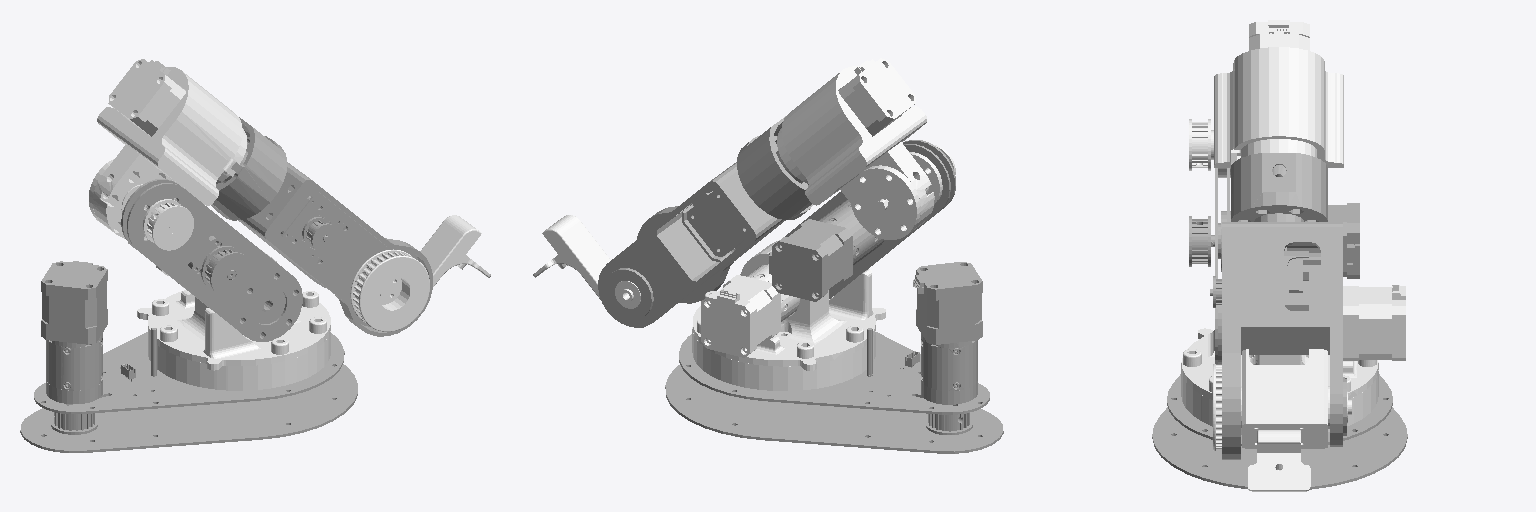
The robot description file, URDF, robot "myArm3":
<?xml version="1.0" encoding="utf-8"?>
<!-- This URDF was automatically created by SolidWorks to URDF Exporter! Originally created by [author] ([email redacted]) 
     Commit Version: 1.6.0-4-g7f85cfe  Build Version: 1.6.7995.38578
     For more information, please see http://wiki.ros.org/sw_urdf_exporter -->
<robot
  name="myArm3">
  <link
    name="base_link">
    <inertial>
      <origin
        xyz="-0.095318 -4.5256E-06 0.021176"
        rpy="0 0 0" />
      <mass
        value="0.27554" />
      <inertia
        ixx="0.00022099"
        ixy="-7.044E-08"
        ixz="7.4625E-11"
        iyy="0.00051826"
        iyz="-4.182E-10"
        izz="0.00069171" />
    </inertial>
    <visual>
      <origin
        xyz="0 0 0"
        rpy="0 0 0" />
      <geometry>
        <mesh
          filename="package://myArm3/meshes/base_link.STL" />
      </geometry>
      <material
        name="">
        <color
          rgba="0.75294 0.75294 0.75294 1" />
      </material>
    </visual>
    <collision>
      <origin
        xyz="0 0 0"
        rpy="0 0 0" />
      <geometry>
        <mesh
          filename="package://myArm3/meshes/base_link.STL" />
      </geometry>
    </collision>
  </link>
  <link
    name="J1_link">
    <inertial>
      <origin
        xyz="0.000446439488017805 0.00967765688099316 0.00170160479426845"
        rpy="0 0 0" />
      <mass
        value="0.629677145348551" />
      <inertia
        ixx="0.000496177686909678"
        ixy="-1.14257748342475E-05"
        ixz="5.33491963218859E-07"
        iyy="0.000501071492601735"
        iyz="2.62329300021668E-06"
        izz="0.000843373347667883" />
    </inertial>
    <visual>
      <origin
        xyz="0 0 0"
        rpy="0 0 0" />
      <geometry>
        <mesh
          filename="package://myArm3/meshes/J1_link.STL" />
      </geometry>
      <material
        name="">
        <color
          rgba="1 1 1 1" />
      </material>
    </visual>
    <collision>
      <origin
        xyz="0 0 0"
        rpy="0 0 0" />
      <geometry>
        <mesh
          filename="package://myArm3/meshes/J1_link.STL" />
      </geometry>
    </collision>
  </link>
  <joint
    name="J1"
    type="revolute">
    <origin
      xyz="0 0 0.029"
      rpy="0 0 0" />
    <parent
      link="base_link" />
    <child
      link="J1_link" />
    <axis
      xyz="0 0 1" />
    <limit
      lower="-0.66323"
      upper="0.66323"
      effort="0"
      velocity="1.5708" />
  </joint>
  <link
    name="J2_link">
    <inertial>
      <origin
        xyz="-0.052758 0.03787 3.6385E-05"
        rpy="0 0 0" />
      <mass
        value="0.20789" />
      <inertia
        ixx="5.461E-05"
        ixy="-4.0338E-10"
        ixz="-7.4046E-08"
        iyy="0.00012239"
        iyz="-2.0613E-08"
        izz="0.00011622" />
    </inertial>
    <visual>
      <origin
        xyz="0 0 0"
        rpy="0 0 0" />
      <geometry>
        <mesh
          filename="package://myArm3/meshes/J2_link.STL" />
      </geometry>
      <material
        name="">
        <color
          rgba="0.75294 0.75294 0.75294 1" />
      </material>
    </visual>
    <collision>
      <origin
        xyz="0 0 0"
        rpy="0 0 0" />
      <geometry>
        <mesh
          filename="package://myArm3/meshes/J2_link.STL" />
      </geometry>
    </collision>
  </link>
  <joint
    name="J2"
    type="revolute">
    <origin
      xyz="0 -0.0444 0.03"
      rpy="0 0.7854 0" />
    <parent
      link="J1_link" />
    <child
      link="J2_link" />
    <axis
      xyz="0 1 0" />
    <limit
      lower="0"
      upper="2.0944"
      effort="0"
      velocity="1.5708" />
  </joint>
  <link
    name="J3_link">
    <inertial>
      <origin
        xyz="0.00416465612326519 0.0110235943537189 0.0452994213674684"
        rpy="0 0 0" />
      <mass
        value="0.421769177344399" />
      <inertia
        ixx="0.000305332301594355"
        ixy="3.39977738991337E-07"
        ixz="7.90545810495613E-06"
        iyy="0.000299340292169898"
        iyz="2.1423276655419E-06"
        izz="0.000237436999303539" />
    </inertial>
    <visual>
      <origin
        xyz="0 0 0"
        rpy="0 0 0" />
      <geometry>
        <mesh
          filename="package://myArm3/meshes/J3_link.STL" />
      </geometry>
      <material
        name="">
        <color
          rgba="1 1 1 1" />
      </material>
    </visual>
    <collision>
      <origin
        xyz="0 0 0"
        rpy="0 0 0" />
      <geometry>
        <mesh
          filename="package://myArm3/meshes/J3_link.STL" />
      </geometry>
    </collision>
  </link>
  <joint
    name="J3"
    type="revolute">
    <origin
      xyz="-0.13 0.0519 0"
      rpy="0 0 -3.1416" />
    <parent
      link="J2_link" />
    <child
      link="J3_link" />
    <axis
      xyz="0 1 0" />
    <limit
      lower="0"
      upper="3.14"
      effort="0"
      velocity="1.5708" />
  </joint>
  <link
    name="J4_link">
    <inertial>
      <origin
        xyz="-0.0800991890853728 0.000661925783839005 -0.000295771091893091"
        rpy="0 0 0" />
      <mass
        value="0.33368898081639" />
      <inertia
        ixx="0.000253721042978855"
        ixy="-5.79470547305709E-05"
        ixz="-4.97091341292703E-07"
        iyy="0.000726825612118539"
        iyz="-1.46034238649972E-06"
        izz="0.000790498214103108" />
    </inertial>
    <visual>
      <origin
        xyz="0 0 0"
        rpy="0 0 0" />
      <geometry>
        <mesh
          filename="package://myArm3/meshes/J4_link.STL" />
      </geometry>
      <material
        name="">
        <color
          rgba="0.752941176470588 0.752941176470588 0.752941176470588 1" />
      </material>
    </visual>
    <collision>
      <origin
        xyz="0 0 0"
        rpy="0 0 0" />
      <geometry>
        <mesh
          filename="package://myArm3/meshes/J4_link.STL" />
      </geometry>
    </collision>
  </link>
  <joint
    name="J4"
    type="revolute">
    <origin
      xyz="-0.040596 0.008 0.06475"
      rpy="0 0 0" />
    <parent
      link="J3_link" />
    <child
      link="J4_link" />
    <axis
      xyz="1 0 0" />
    <limit
      lower="0"
      upper="5.59"
      effort="0"
      velocity="1.5708" />
  </joint>
  <link
    name="J5_link">
    <inertial>
      <origin
        xyz="0.0017088 -0.040352 -0.00029236"
        rpy="0 0 0" />
      <mass
        value="0.1537" />
      <inertia
        ixx="6.9336E-05"
        ixy="-3.6739E-07"
        ixz="1.1634E-06"
        iyy="6.3305E-05"
        iyz="1.824E-07"
        izz="6.5429E-05" />
    </inertial>
    <visual>
      <origin
        xyz="0 0 0"
        rpy="0 0 0" />
      <geometry>
        <mesh
          filename="package://myArm3/meshes/J5_link.STL" />
      </geometry>
      <material
        name="">
        <color
          rgba="1 1 1 1" />
      </material>
    </visual>
    <collision>
      <origin
        xyz="0 0 0"
        rpy="0 0 0" />
      <geometry>
        <mesh
          filename="package://myArm3/meshes/J5_link.STL" />
      </geometry>
    </collision>
  </link>
  <joint
    name="J5"
    type="revolute">
    <origin
      xyz="-0.1742 0.0455 0"
      rpy="0 0 0" />
    <parent
      link="J4_link" />
    <child
      link="J5_link" />
    <axis
      xyz="0 1 0" />
    <limit
      lower="-1.5707"
      upper="1.5707"
      effort="0"
      velocity="1.5708" />
  </joint>
  <link
    name="J6_link">
    <inertial>
      <origin
        xyz="0.0078125 -5.22E-07 -0.038022"
        rpy="0 0 0" />
      <mass
        value="0.030286" />
      <inertia
        ixx="1.8217E-05"
        ixy="3.398E-10"
        ixz="1.8964E-06"
        iyy="1.7869E-05"
        iyz="-2.3596E-10"
        izz="4.3182E-06" />
    </inertial>
    <visual>
      <origin
        xyz="0 0 0"
        rpy="0 0 0" />
      <geometry>
        <mesh
          filename="package://myArm3/meshes/J6_link.STL" />
      </geometry>
      <material
        name="">
        <color
          rgba="1 1 1 1" />
      </material>
    </visual>
    <collision>
      <origin
        xyz="0 0 0"
        rpy="0 0 0" />
      <geometry>
        <mesh
          filename="package://myArm3/meshes/J6_link.STL" />
      </geometry>
    </collision>
  </link>
  <joint
    name="J6"
    type="revolute">
    <origin
      xyz="-0.041 -0.0455 0"
      rpy="-3.1416 0 3.1416" />
    <parent
      link="J5_link" />
    <child
      link="J6_link" />
    <axis
      xyz="-1 0 0" />
    <limit
      lower="-3.1416"
      upper="3.1416"
      effort="0"
      velocity="1.5708" />
  </joint>
</robot>

--- Facts derived from the render (not from the file) ---
3 views of the same robot in one strip: view 1: azimuth 30°, elevation 25°; view 2: azimuth 150°, elevation 25°; view 3: azimuth 270°, elevation 25° (orthographic).
Model myArm3 with 7 links and 6 joints (6 revolute), rooted at base_link, posed all joints at 0.
Visible links, largest first — view 1: base_link, J3_link, J4_link, J2_link, J1_link, J5_link, J6_link; view 2: base_link, J3_link, J4_link, J1_link, J2_link, J6_link, J5_link; view 3: J4_link, J3_link, base_link, J1_link, J5_link, J2_link, J6_link.
Link boxes in pixels (x1,y1,x2,y2): base_link: (20,261,357,452); J3_link: (89,59,246,250); J4_link: (211,117,432,336); J2_link: (121,179,302,341); J1_link: (137,249,330,390); J5_link: (350,249,429,331); J6_link: (420,215,490,286); base_link: (665,262,1003,453); J3_link: (777,58,955,239); J4_link: (598,116,812,327); J1_link: (692,241,885,390); J2_link: (769,140,955,301); J6_link: (533,215,610,299); J5_link: (615,281,643,327); J4_link: (1210,153,1346,459); J3_link: (1189,20,1343,177); base_link: (1152,374,1407,489); J1_link: (1181,285,1405,434); J5_link: (1213,349,1351,450); J2_link: (1189,168,1359,364); J6_link: (1248,430,1310,491).
Bounding box of the posed robot: 0.3821 × 0.175 × 0.282 m (x, y, z).
Meshes: 7 distinct files referenced, 7 mesh visuals loaded (7 binary STL).